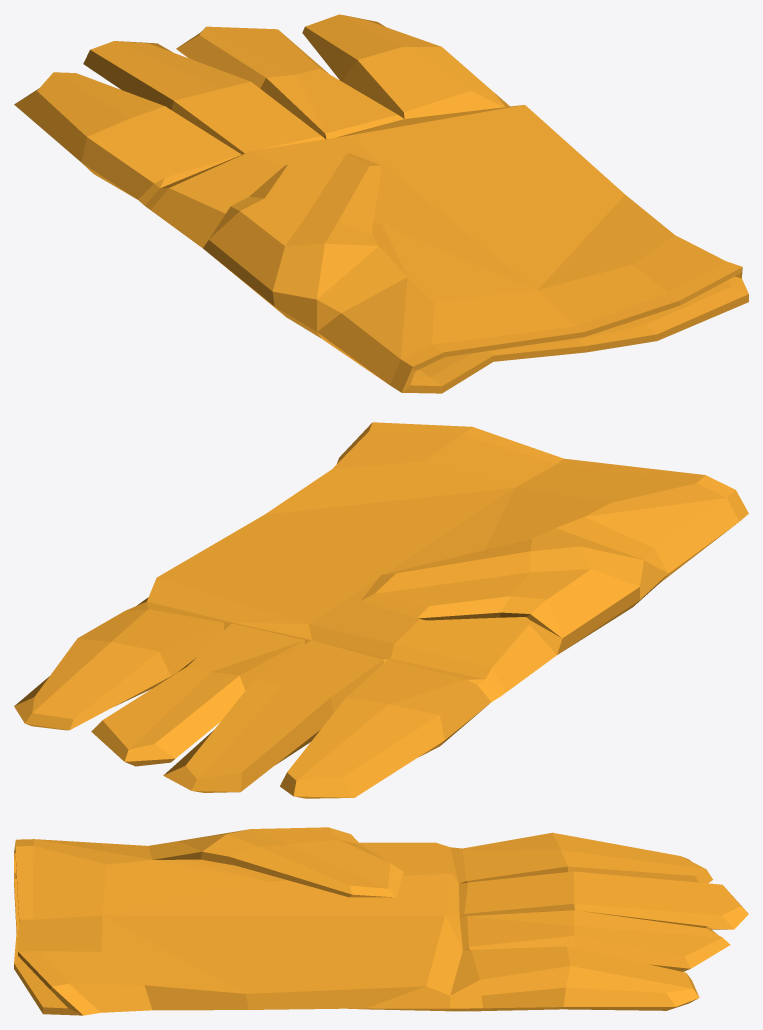
The model's file is SM_Glove_Work_Fabric_A.fbx.
The picture shows the model from 3 angles, top to bottom: view 1: azimuth 30°, elevation 25°; view 2: azimuth 150°, elevation 25°; view 3: azimuth 270°, elevation 25°; orthographic projection. The views are drawn at different scales.
Visible parts, largest first — view 1: glove-work-fabric-a; view 2: glove-work-fabric-a; view 3: glove-work-fabric-a.
Part boxes in pixels (x1,y1,x2,y2): glove-work-fabric-a: (14, 14, 748, 393); glove-work-fabric-a: (14, 422, 748, 798); glove-work-fabric-a: (14, 827, 748, 1015).
Bounding box in the file's own units: 0.1194 × 0.017 × 0.2297.
